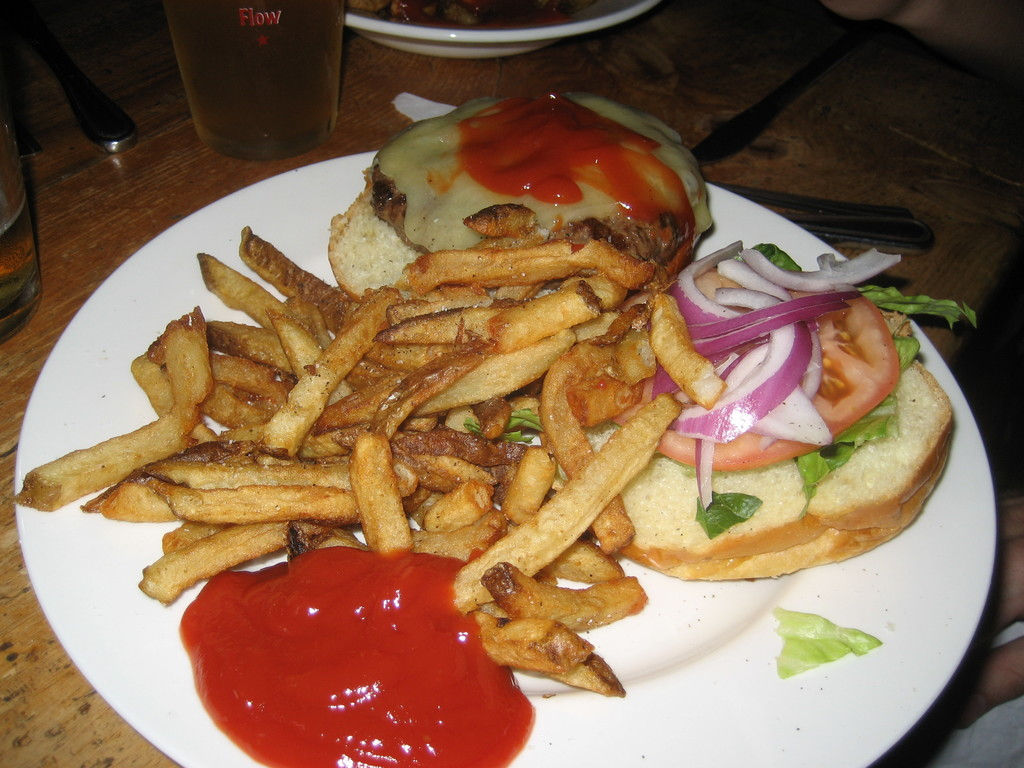French fries: (14, 204, 724, 700)
